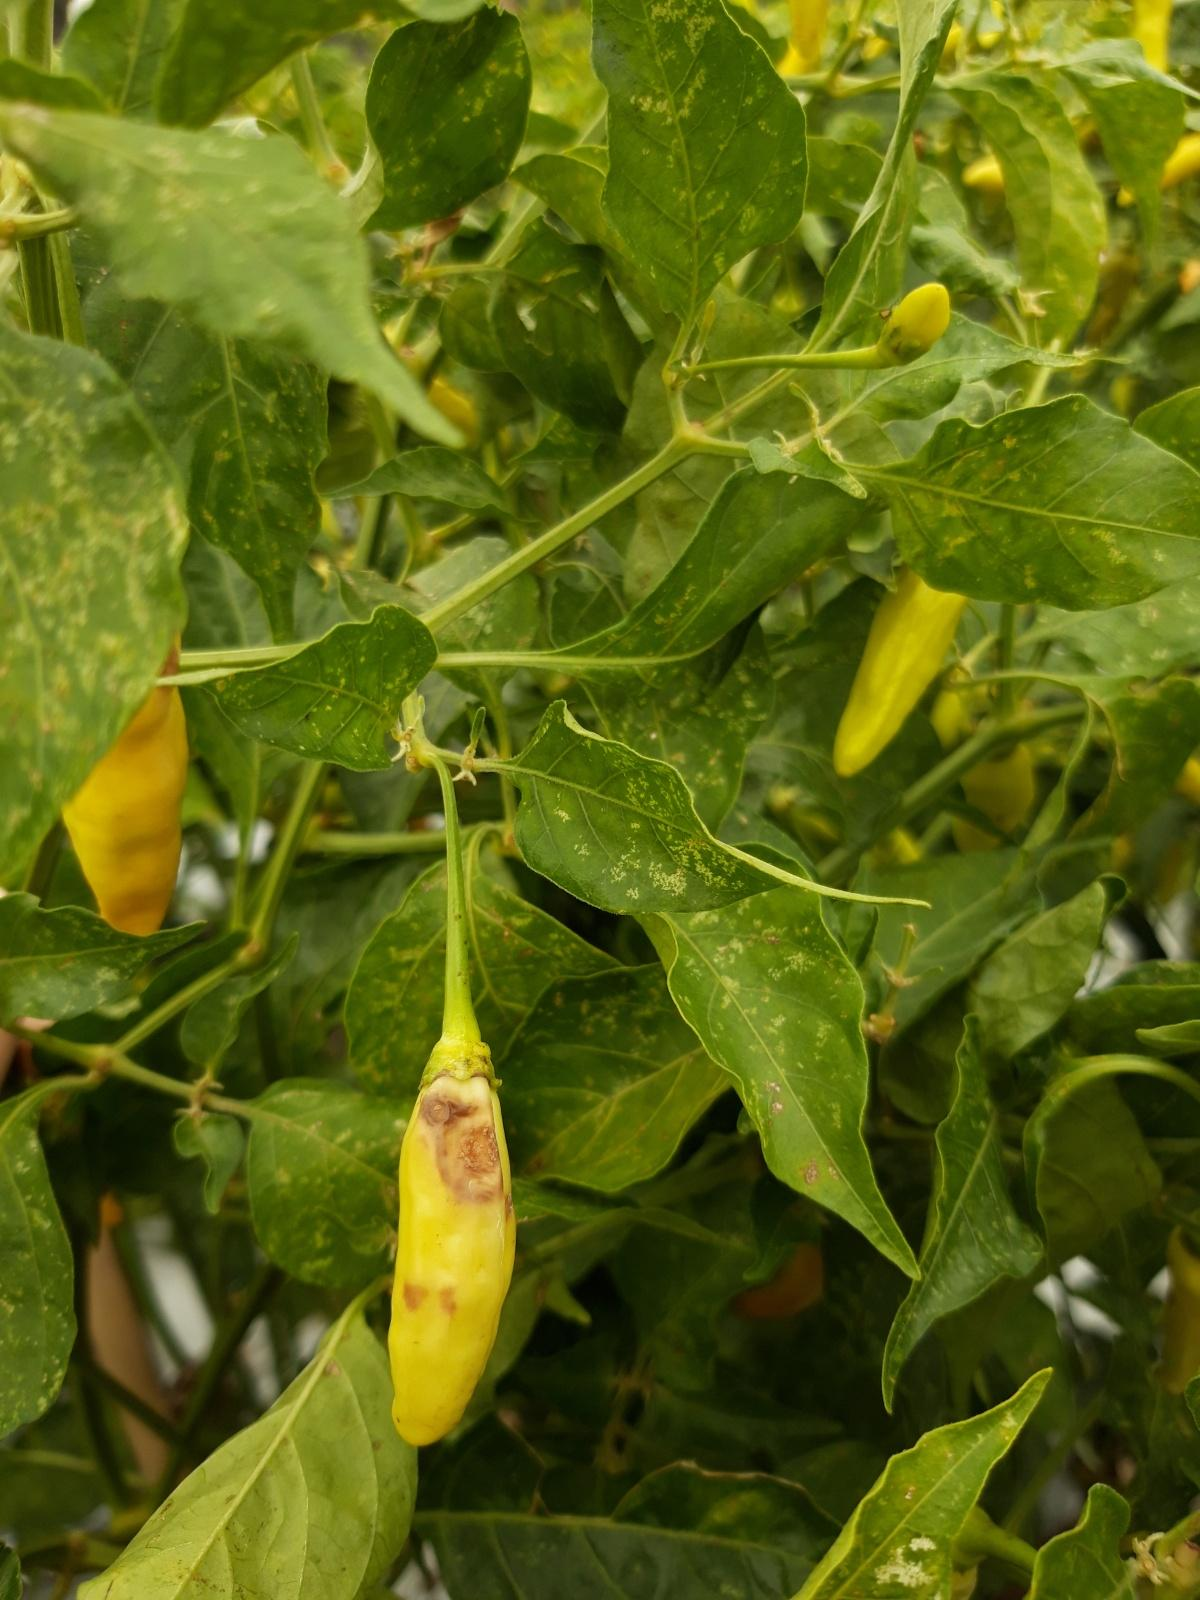cabai_normal: (832, 566, 968, 776), (879, 283, 950, 364)
lalat_buah: (387, 1041, 516, 1449)
